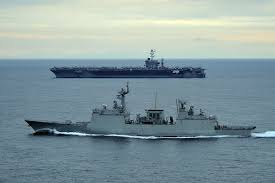tau_muctieu: (23, 87, 258, 142), (50, 50, 204, 79)
